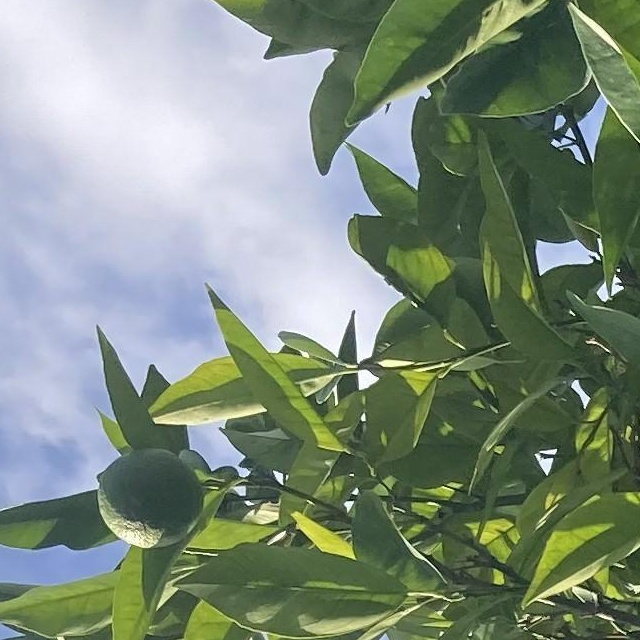orange: (82, 442, 216, 564)
